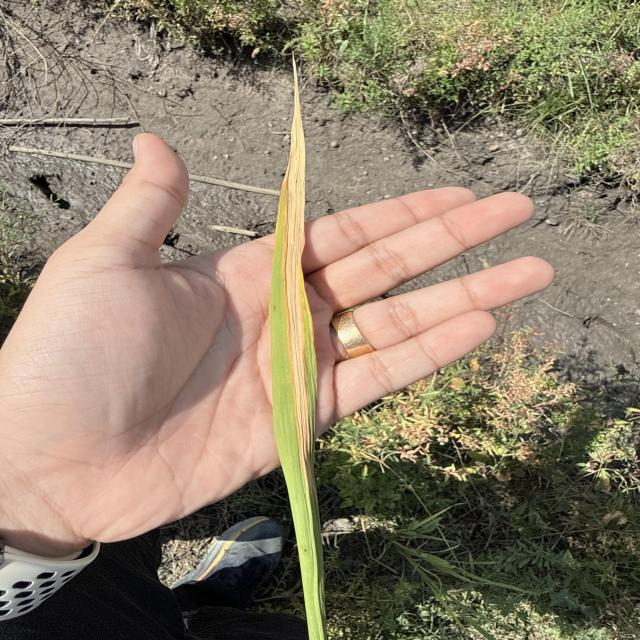Chay bia la: (285, 52, 311, 481)
